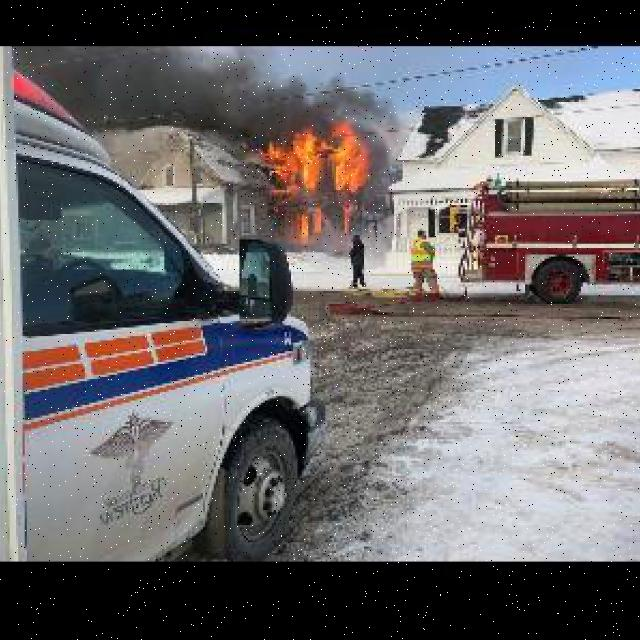fire: (257, 122, 368, 240)
smoke: (139, 46, 396, 115), (366, 87, 416, 186)
